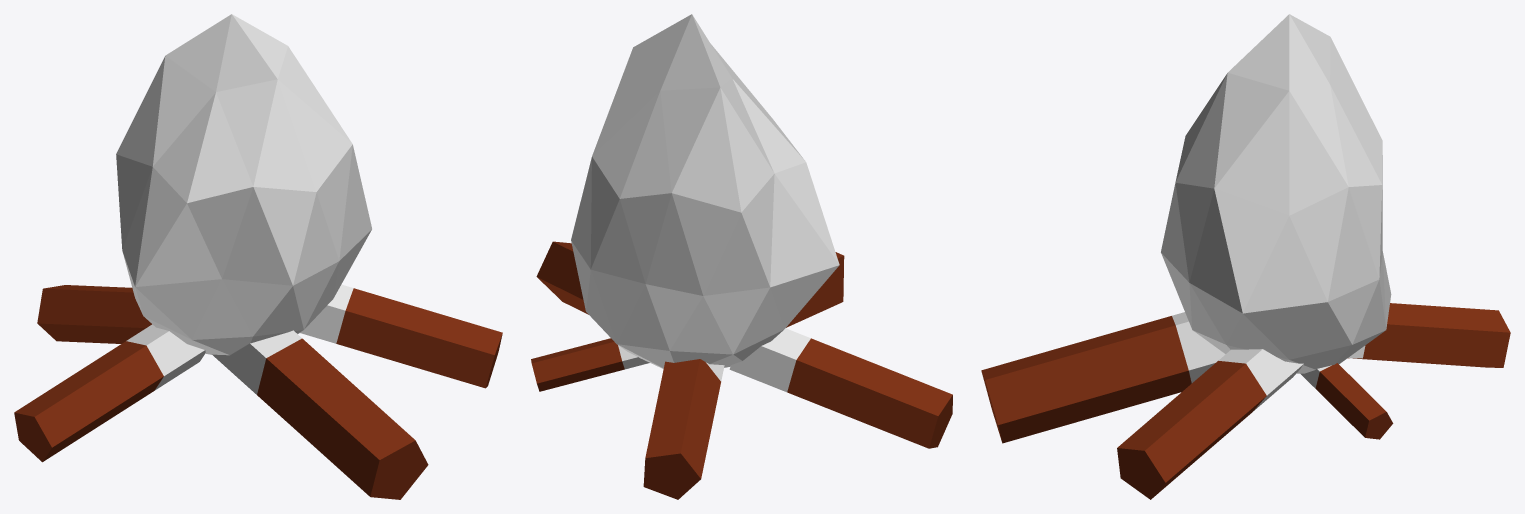
The model's file is Fire.fbx.
3 views of the same model, side by side, from view 1: azimuth 30°, elevation 25°; view 2: azimuth 150°, elevation 25°; view 3: azimuth 270°, elevation 25° (orthographic). The views are drawn at different scales.
Parts seen in each view (by area): view 1: Fire, FireLogs; view 2: Fire, FireLogs; view 3: Fire, FireLogs.
Part boxes in pixels (<box>): Fire: <box>116,14,371,355</box>; FireLogs: <box>14,284,502,499</box>; Fire: <box>571,14,839,368</box>; FireLogs: <box>531,241,952,499</box>; Fire: <box>1161,14,1391,373</box>; FireLogs: <box>981,303,1510,499</box>.
Size of the model in its own units: 242 by 209 by 243.
